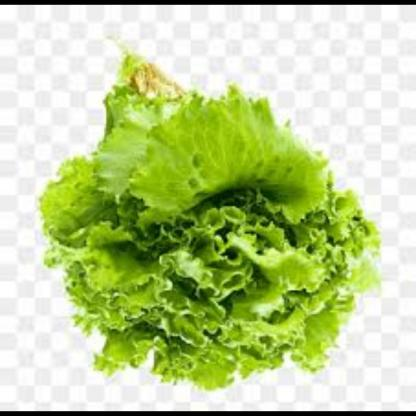salad: (38, 42, 378, 396)
